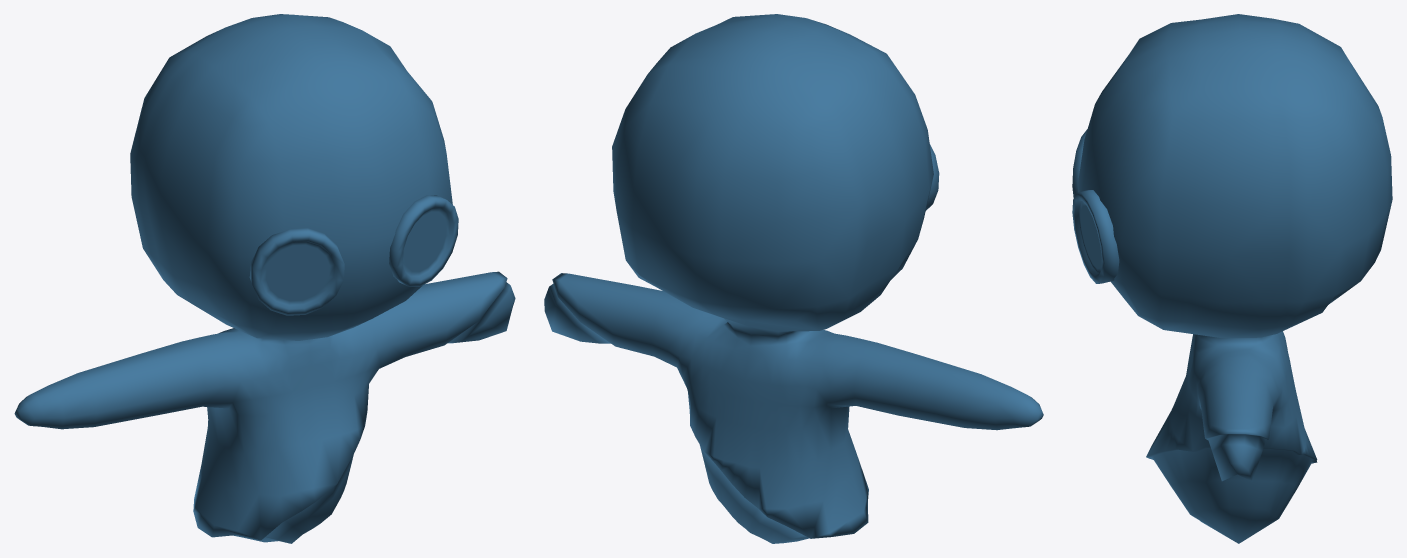
The model's file is Puppe_02_SM.FBX.
3 views of the same model, side by side, from view 1: azimuth 30°, elevation 25°; view 2: azimuth 150°, elevation 25°; view 3: azimuth 270°, elevation 25° (orthographic).
Visible parts, largest first — view 1: Voodoo 02; view 2: Voodoo 02; view 3: Voodoo 02.
Part boxes in pixels (x1,y1,x2,y2): Voodoo 02: (14,14,515,543); Voodoo 02: (544,14,1043,543); Voodoo 02: (1072,14,1392,543).
Bounding box in the file's own units: 28.03 × 27.14 × 15.64.
